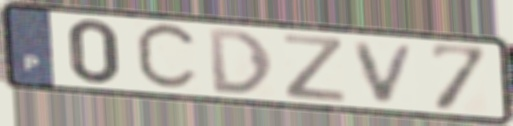0: (66, 17, 122, 86)
7: (428, 41, 489, 114)
C: (131, 20, 202, 95)
D: (205, 26, 276, 97)
V: (350, 39, 421, 106)
Z: (281, 31, 348, 104)
